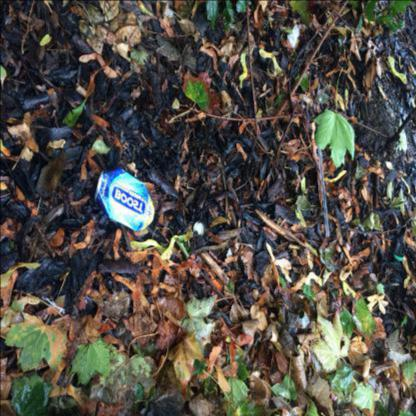Bottle: (193, 221, 205, 237)
Can: (94, 168, 154, 231)
Straw: (317, 144, 329, 237)
